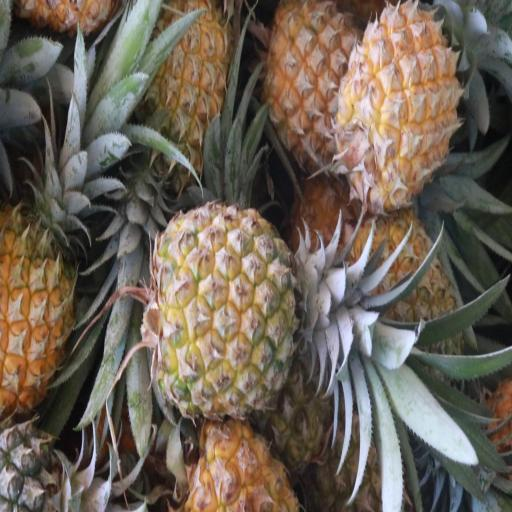------------------------------: (151, 208, 303, 416), (346, 216, 460, 386), (265, 0, 360, 181)
Pineapple - v8 v1: (342, 0, 461, 201), (142, 0, 226, 200), (0, 208, 77, 409)
